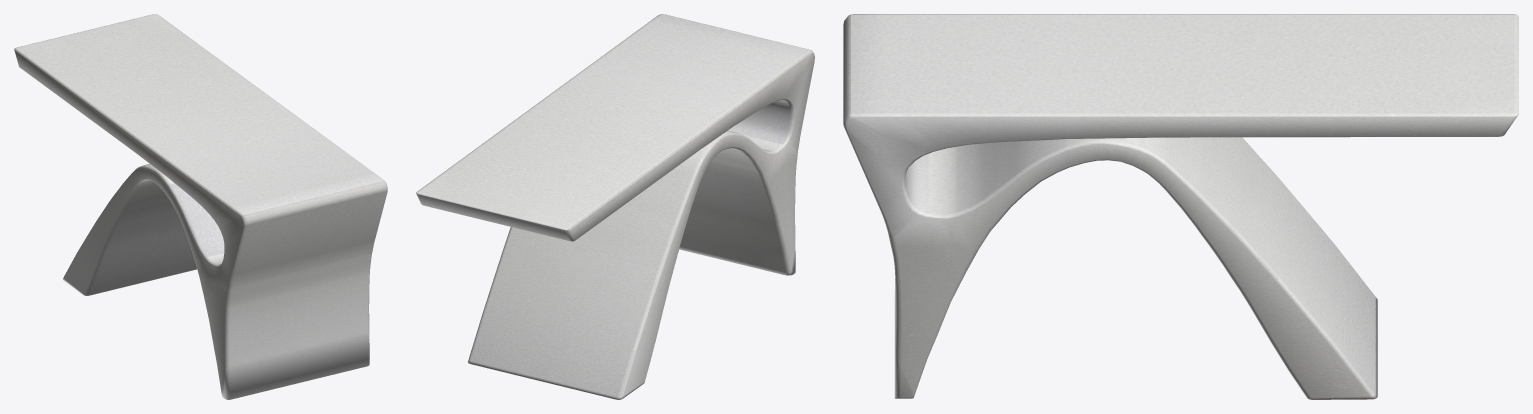
The model's file is modern_office_desk.glb.
3 renders of one model, left to right at view 1: azimuth 30°, elevation 25°; view 2: azimuth 150°, elevation 25°; view 3: azimuth 270°, elevation 25°, orthographic. The views are drawn at different scales.
Visible parts, largest first — view 1: Material_001-material; view 2: Material_001-material; view 3: Material_001-material.
Part boxes in pixels (bbox=[...]): Material_001-material: bbox=[14, 14, 387, 399]; Material_001-material: bbox=[416, 14, 814, 399]; Material_001-material: bbox=[843, 14, 1518, 399].
Size of the model in its own units: 0.6574 by 0.8534 by 1.83.
Materials: 1 (1 with a texture image).
